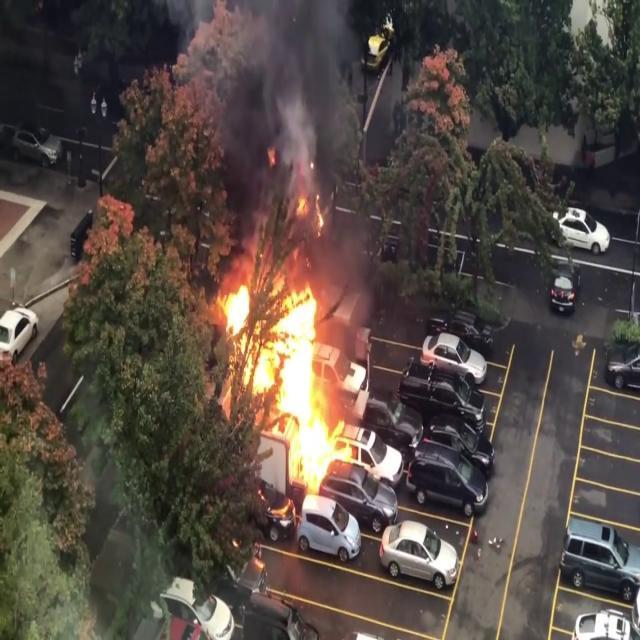Fire: (210, 270, 364, 508)
Smoke: (198, 0, 372, 264)
